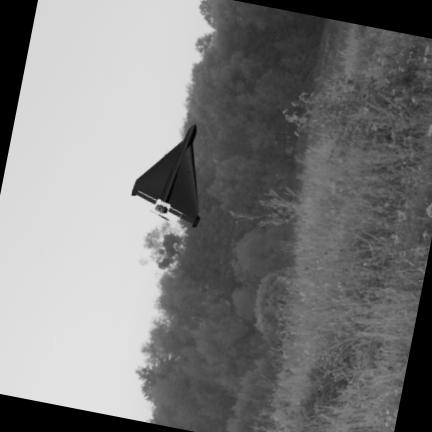Shahed: (132, 124, 199, 226)
